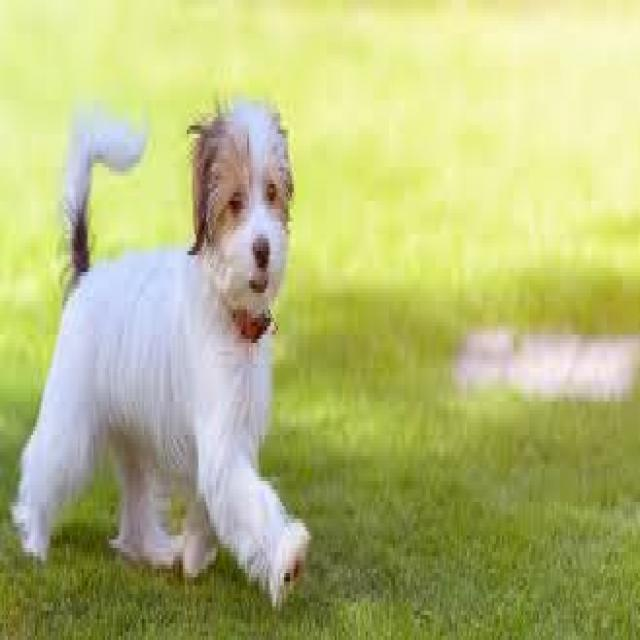good: (10, 84, 316, 605)
